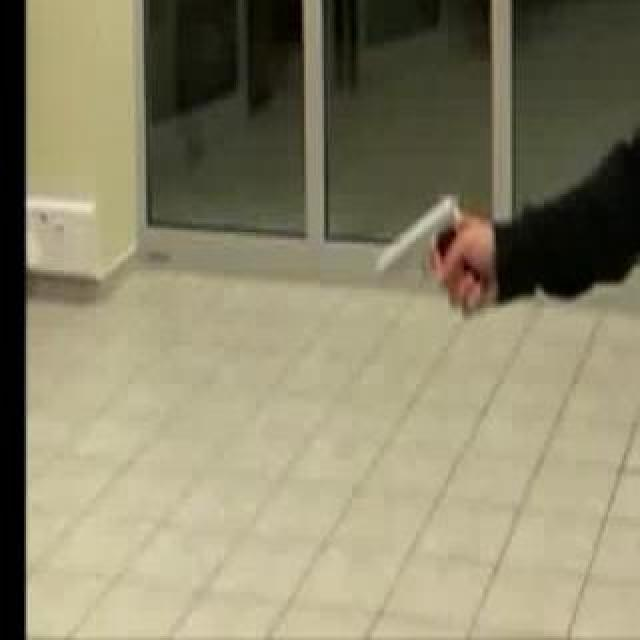Guns: (364, 174, 510, 309)
